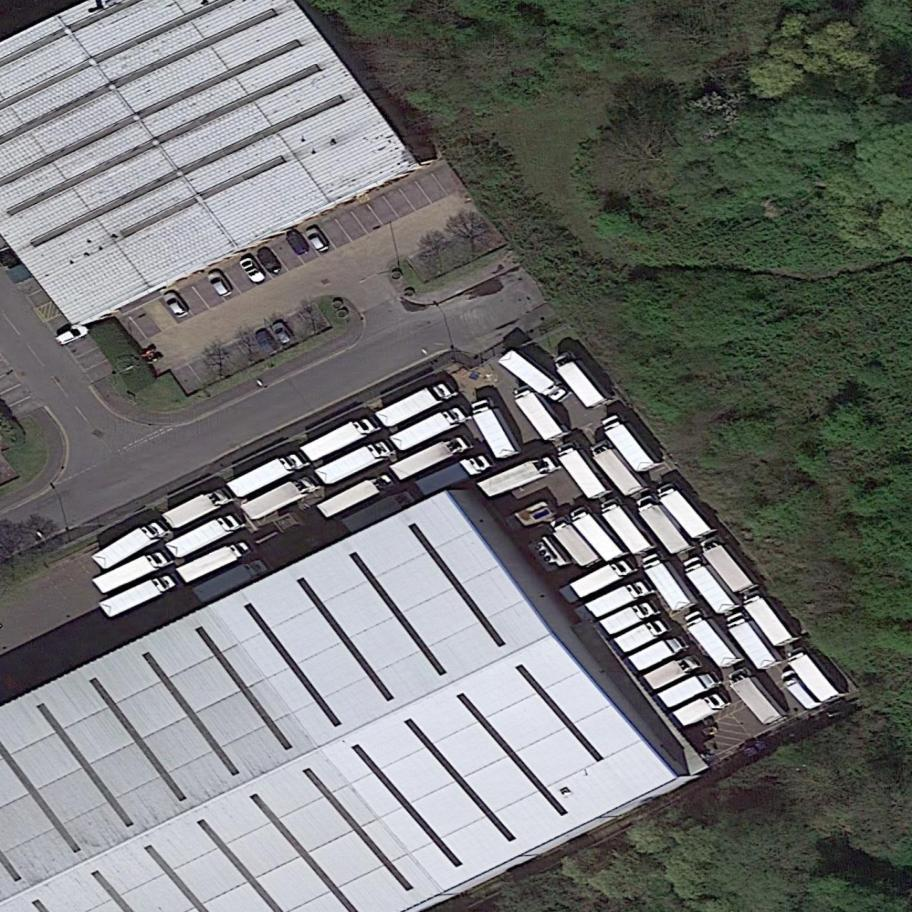large-vehicle: (562, 495, 634, 573), (496, 341, 575, 412), (678, 599, 749, 677), (596, 403, 666, 482), (653, 471, 722, 550), (88, 513, 173, 576), (696, 527, 765, 604), (546, 340, 615, 417), (593, 488, 662, 564), (676, 547, 745, 623), (722, 658, 791, 733), (636, 542, 702, 620), (721, 602, 787, 679), (633, 485, 698, 563), (585, 431, 653, 505), (374, 375, 460, 433), (508, 375, 574, 450), (225, 446, 310, 504), (782, 638, 849, 711), (738, 581, 804, 655), (551, 433, 616, 508), (163, 507, 249, 563), (388, 429, 474, 485), (475, 448, 564, 502), (190, 554, 275, 610), (311, 435, 396, 491), (90, 544, 175, 599), (238, 470, 323, 525), (315, 470, 398, 525), (387, 401, 470, 456), (466, 389, 524, 467), (299, 411, 381, 466), (174, 534, 255, 589), (412, 448, 496, 501), (97, 570, 180, 622), (648, 663, 723, 718), (545, 508, 606, 575), (565, 551, 639, 605), (578, 572, 656, 623), (160, 482, 236, 534), (620, 629, 694, 681), (634, 647, 707, 699), (341, 488, 420, 536), (665, 684, 735, 736), (605, 610, 676, 661), (592, 594, 664, 644), (778, 664, 825, 716)
small-vehicle: (159, 287, 193, 324), (237, 253, 269, 289), (255, 244, 286, 280), (205, 267, 236, 302), (282, 225, 311, 260), (302, 225, 332, 257), (55, 322, 90, 349), (253, 326, 281, 358), (268, 317, 297, 347)
